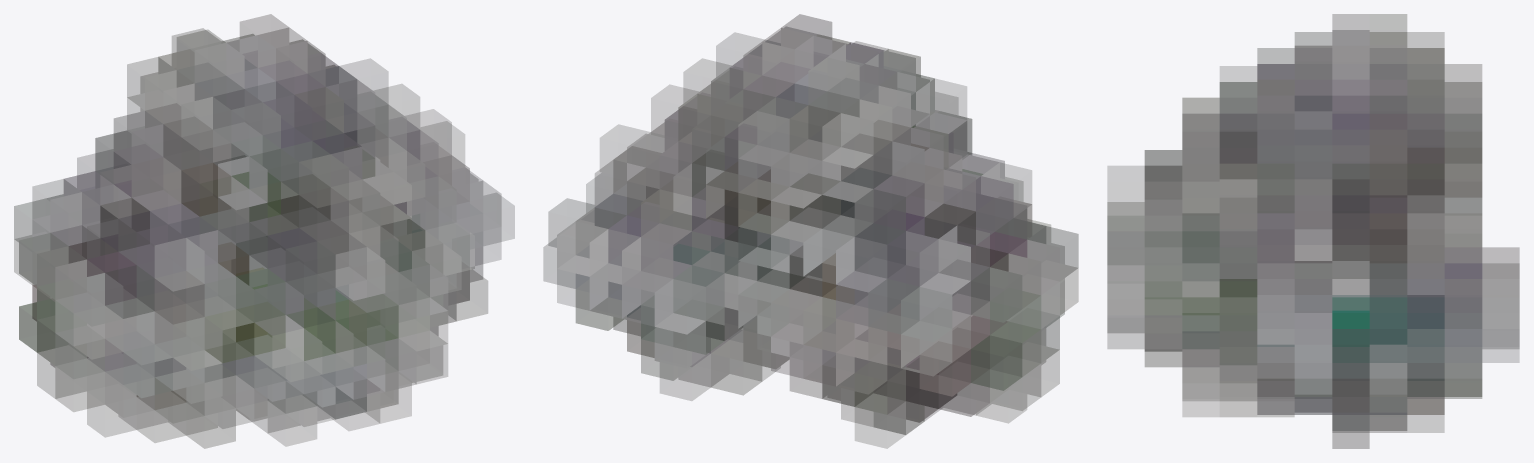
File: iter_10.obj
The picture shows the model from 3 angles, left to right: view 1: azimuth 30°, elevation 25°; view 2: azimuth 150°, elevation 25°; view 3: azimuth 270°, elevation 25°; orthographic projection. The views are drawn at different scales.
Visible parts, largest first — view 1: iter_10; view 2: iter_10; view 3: iter_10.
Part boxes in pixels (x1,y1,x2,y2): iter_10: (14, 14, 514, 448); iter_10: (544, 14, 1078, 448); iter_10: (1107, 14, 1519, 448).
Bounding box in the file's own units: 1.4 × 1 × 1.1.
